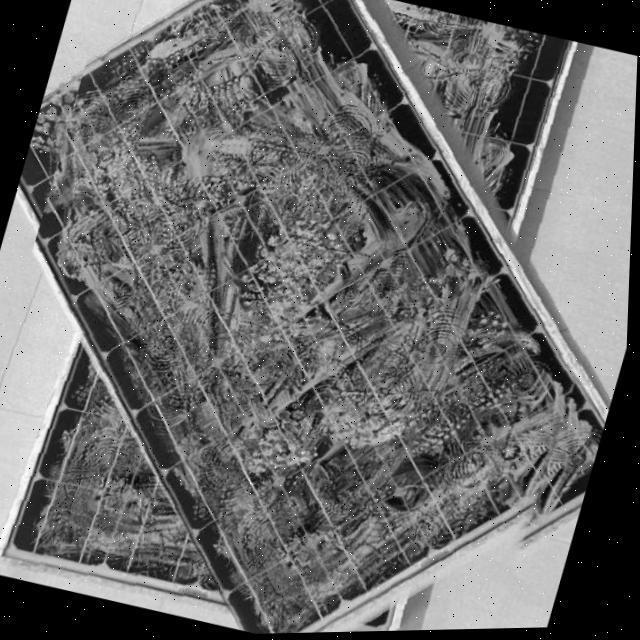Anomaly Solar Panel: (15, 0, 611, 635)
Surface Contaminant: (20, 0, 601, 635), (25, 347, 227, 595), (383, 0, 541, 213)
